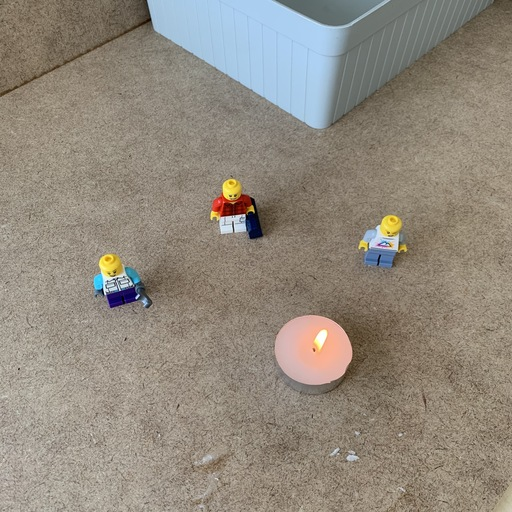fire: (307, 327, 333, 357)
human: (203, 175, 263, 239), (355, 210, 411, 278), (90, 253, 142, 305)
